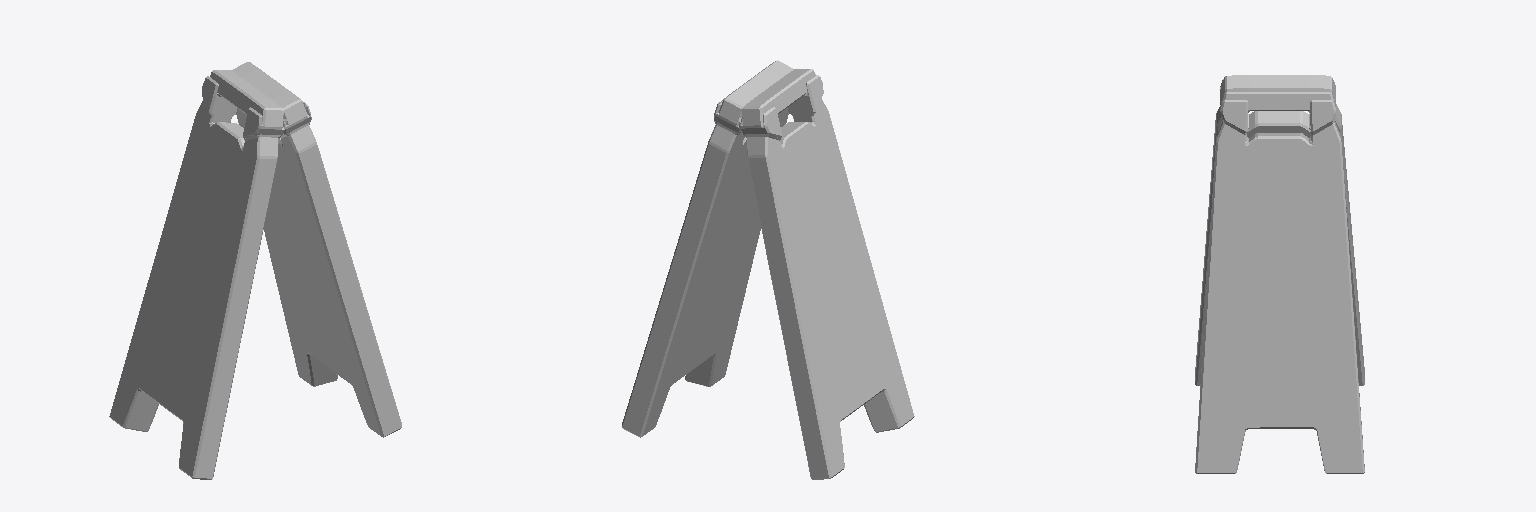
The model's file is Wet Floor Sign.obj.
3 renders of one model, left to right at view 1: azimuth 30°, elevation 25°; view 2: azimuth 150°, elevation 25°; view 3: azimuth 270°, elevation 25°, orthographic.
Parts seen in each view (by area): view 1: pCube3; view 2: pCube3; view 3: pCube3.
Boxes of the visible parts, x1=… form: pCube3: x1=109, y1=62, x2=401, y2=479; pCube3: x1=622, y1=60, x2=914, y2=479; pCube3: x1=1195, y1=75, x2=1364, y2=473.
Bounding box in the file's own units: 2.94 × 4.61 × 2.05.